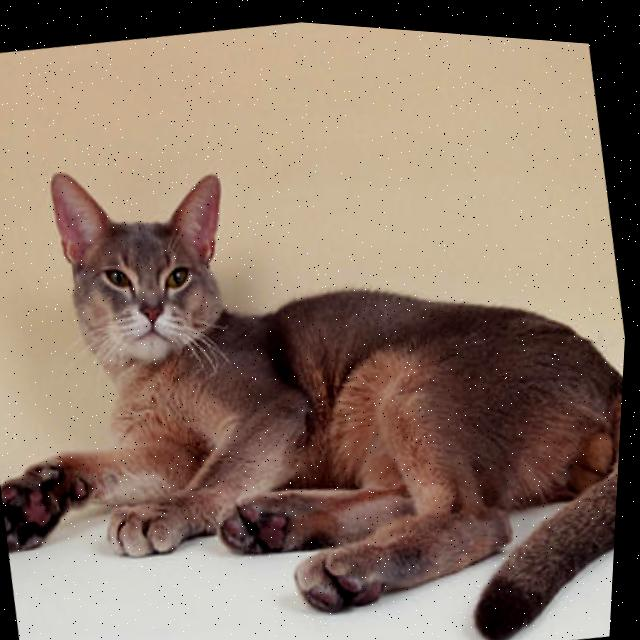Abyssinian: (0, 67, 637, 640)
